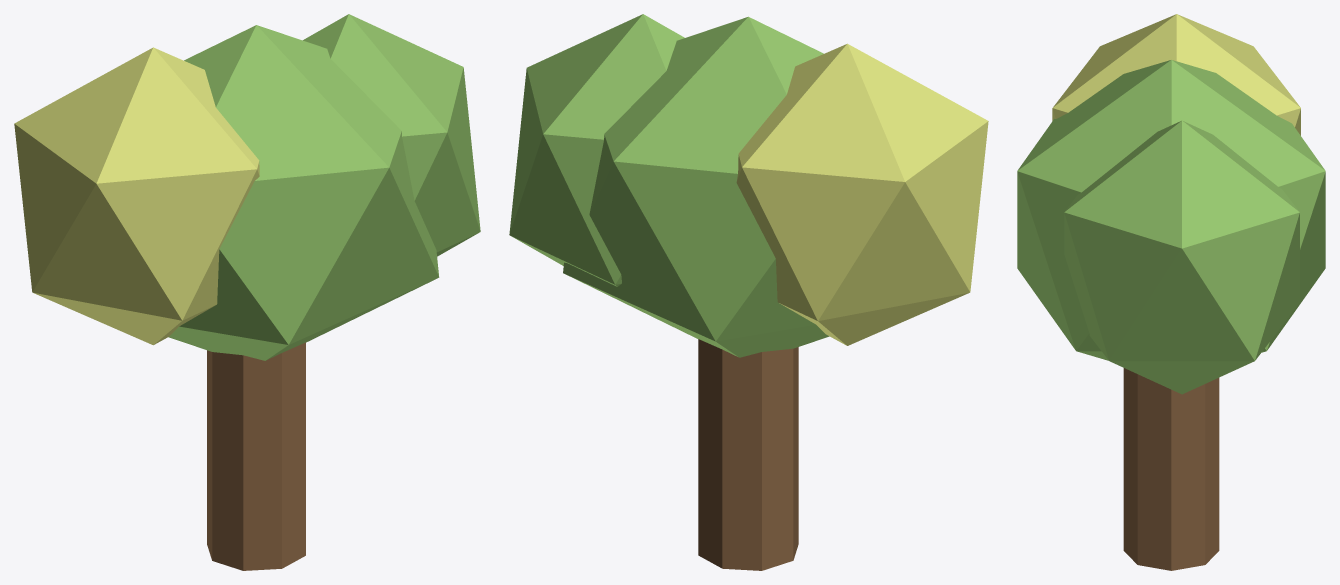
File: tree_broad_02.glb
3 renders of one model, left to right at view 1: azimuth 30°, elevation 25°; view 2: azimuth 150°, elevation 25°; view 3: azimuth 270°, elevation 25°, orthographic. The views are drawn at different scales.
Parts seen in each view (by area): view 1: BroadTree_02_CrownA.001, BroadTree_02_CrownB.001, BroadTree_02_Trunk.001, BroadTree_02_CrownC.001; view 2: BroadTree_02_CrownB.001, BroadTree_02_CrownA.001, BroadTree_02_CrownC.001, BroadTree_02_Trunk.001; view 3: BroadTree_02_CrownC.001, BroadTree_02_CrownA.001, BroadTree_02_Trunk.001, BroadTree_02_CrownB.001.
Part boxes in pixels (x1,y1,x2,y2): BroadTree_02_CrownA.001: (168,25,439,360); BroadTree_02_CrownB.001: (14,47,259,345); BroadTree_02_Trunk.001: (207,342,305,570); BroadTree_02_CrownC.001: (303,14,480,256); BroadTree_02_CrownB.001: (736,43,988,345); BroadTree_02_CrownA.001: (563,16,829,357); BroadTree_02_CrownC.001: (509,14,684,286); BroadTree_02_Trunk.001: (698,339,798,570); BroadTree_02_CrownC.001: (1064,120,1299,394); BroadTree_02_CrownA.001: (1017,60,1325,360); BroadTree_02_Trunk.001: (1123,368,1219,570); BroadTree_02_CrownB.001: (1052,14,1300,135).
Size of the model in its own units: 1.77 by 2.04 by 1.16.
